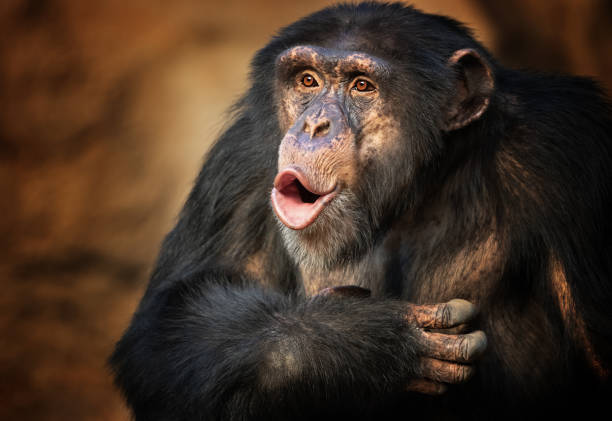chimpanzee: (225, 3, 588, 322)
